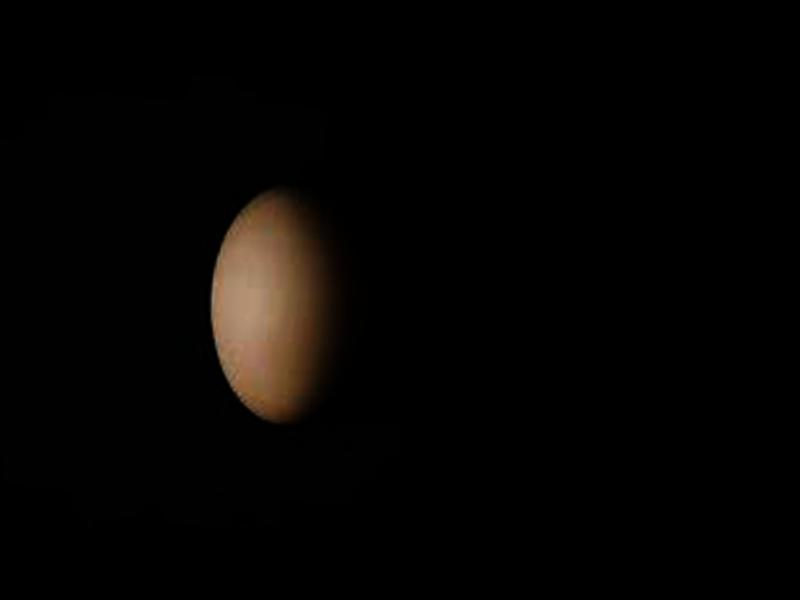Eggs: (203, 177, 371, 434)
